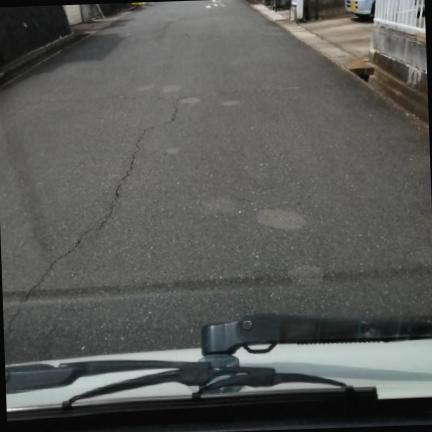Road: (0, 0, 431, 362)
